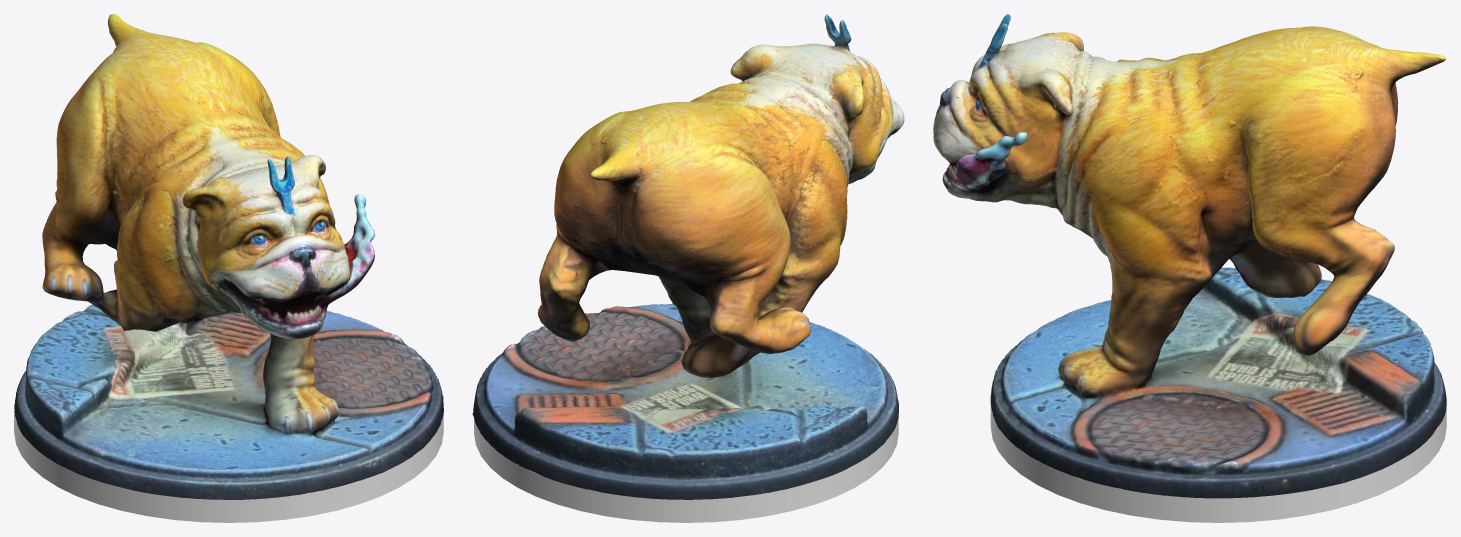
The picture shows the model from 3 angles, left to right: view 1: azimuth 30°, elevation 25°; view 2: azimuth 150°, elevation 25°; view 3: azimuth 270°, elevation 25°; orthographic projection. The views are drawn at different scales.
Visible parts, largest first — view 1: g0; view 2: g0; view 3: g0.
Part boxes in pixels (box(x1,y1,x2,y2)): g0: box(14, 14, 443, 522); g0: box(472, 14, 904, 522); g0: box(933, 14, 1446, 522).
Size of the model in its own units: 1.97 by 1.82 by 2.22.
Materials: 2 (1 with a texture image).
